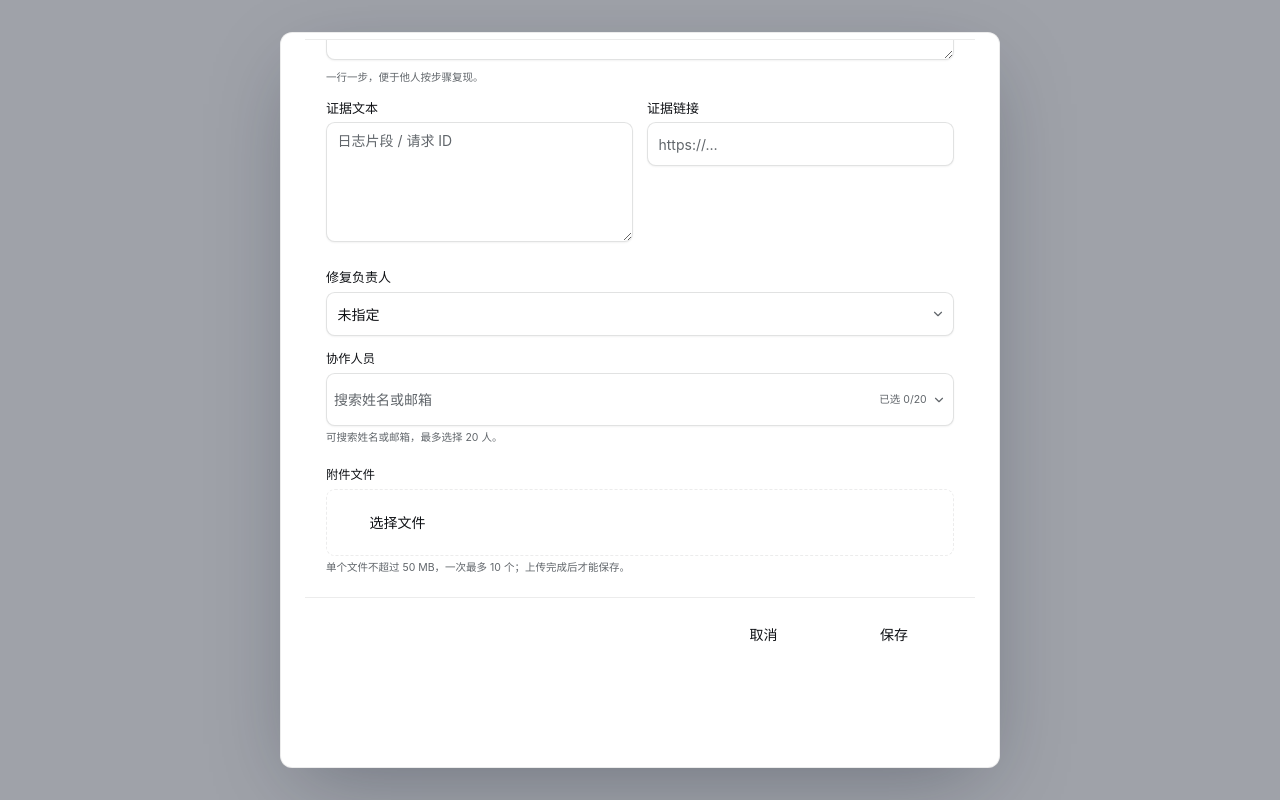
Scenario: BugForm › 协作人员选择后以标签展示并保留失效标记能力
The width and height of the screenshot is (1280, 800).
(page scrolled)
Step 1. Click the field labelled "搜索姓名或邮箱" → (604, 400), box [334,378,874,422]
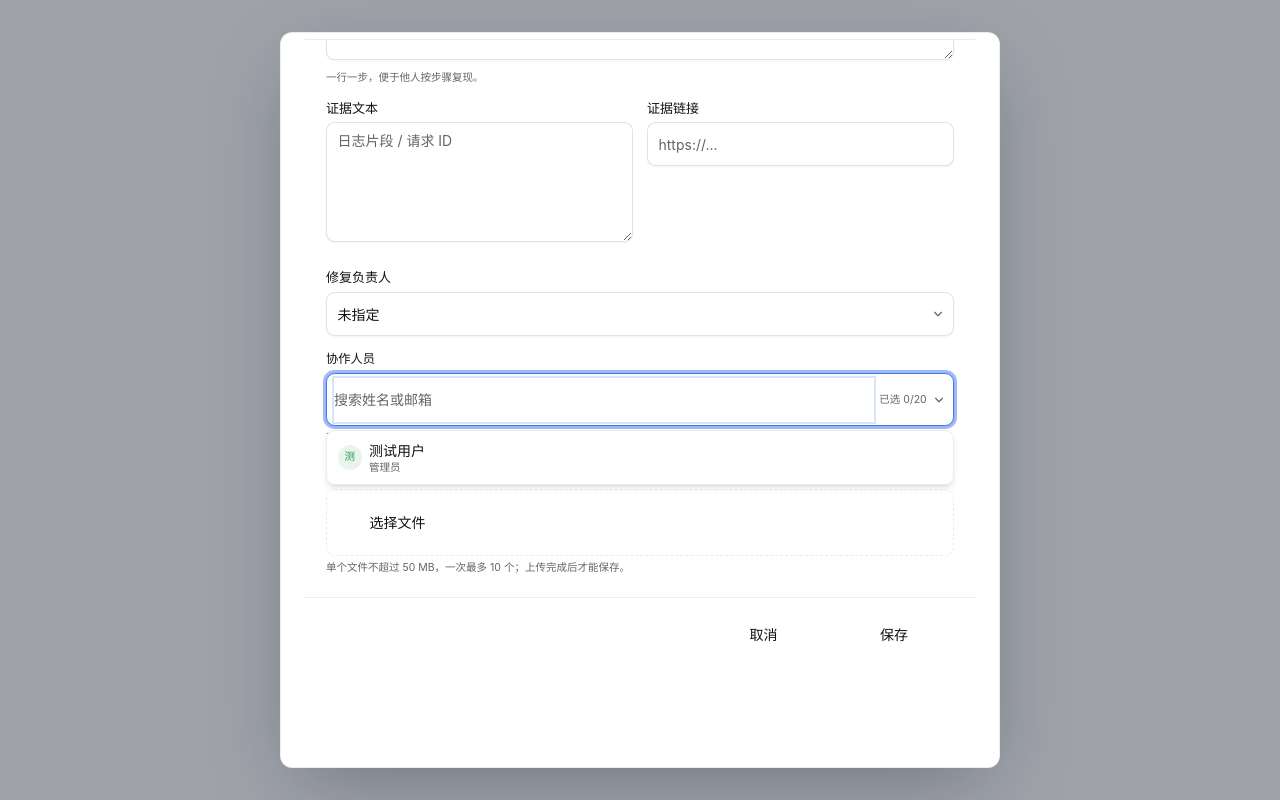
Step 2. Click the option "测 测试用户 管理员" → (397, 450), box [330,434,950,480]
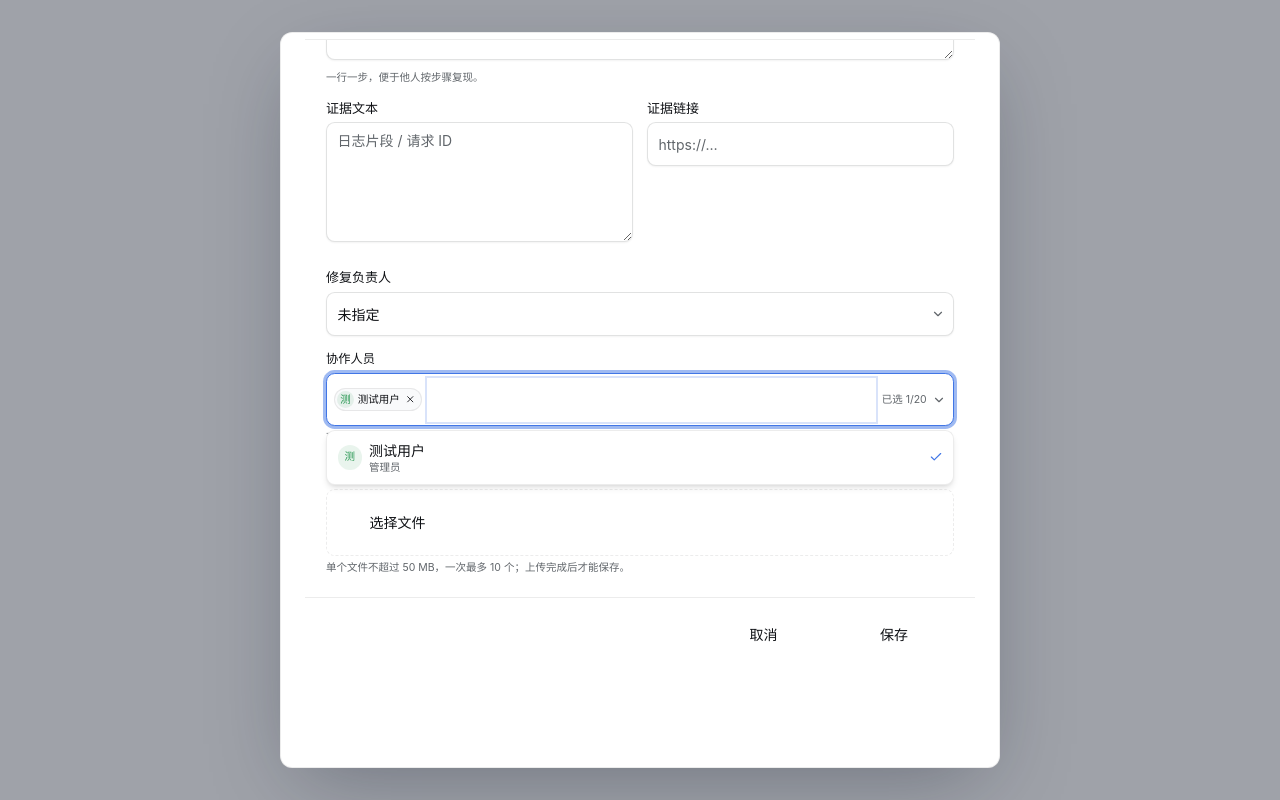
Result: the button named "移除 测试用户" is shown at [403,392,417,406]
